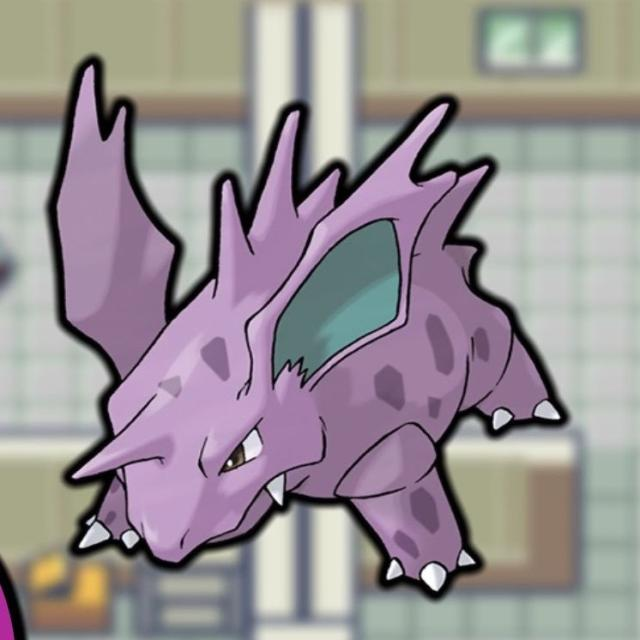Nidorino: (95, 107, 508, 572)
